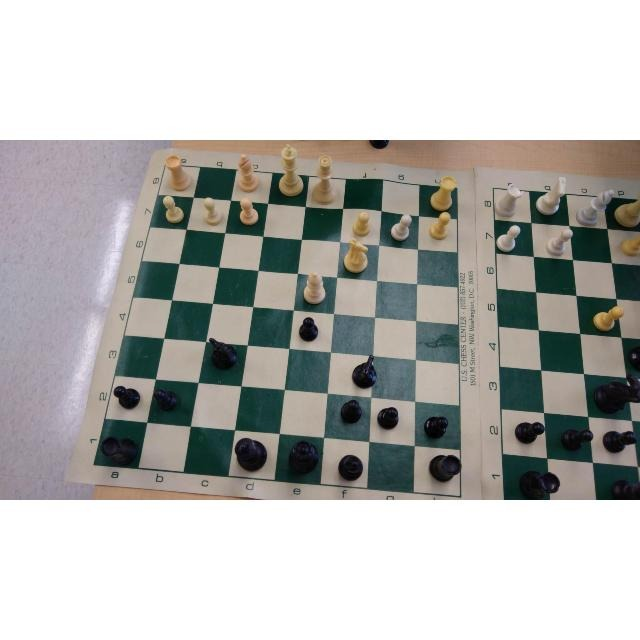black-bishop: (336, 452, 364, 483)
black-king: (233, 434, 269, 475)
black-knight: (590, 370, 639, 417), (205, 334, 238, 371), (349, 353, 381, 389)
black-pawn: (558, 426, 593, 454), (601, 428, 637, 455), (111, 382, 142, 412), (512, 420, 546, 446), (150, 386, 179, 414), (338, 397, 363, 424), (423, 413, 448, 440), (296, 315, 320, 342), (376, 405, 400, 430)
black-queen: (286, 437, 320, 474)
black-rook: (516, 468, 561, 500), (99, 433, 139, 466), (425, 451, 462, 485)
white-bishop: (575, 187, 615, 228), (235, 151, 260, 194), (301, 267, 328, 306)
white-king: (279, 143, 305, 197)
white-knight: (535, 175, 569, 217), (342, 237, 372, 274)
white-pawn: (590, 303, 625, 333), (544, 226, 574, 258), (158, 195, 185, 225), (200, 195, 223, 227), (495, 223, 520, 252), (236, 196, 259, 226), (429, 212, 452, 240), (390, 214, 412, 242), (351, 210, 371, 238)
white-queen: (310, 154, 338, 206)
white-rook: (163, 152, 194, 193), (429, 174, 459, 212), (493, 182, 523, 219)
